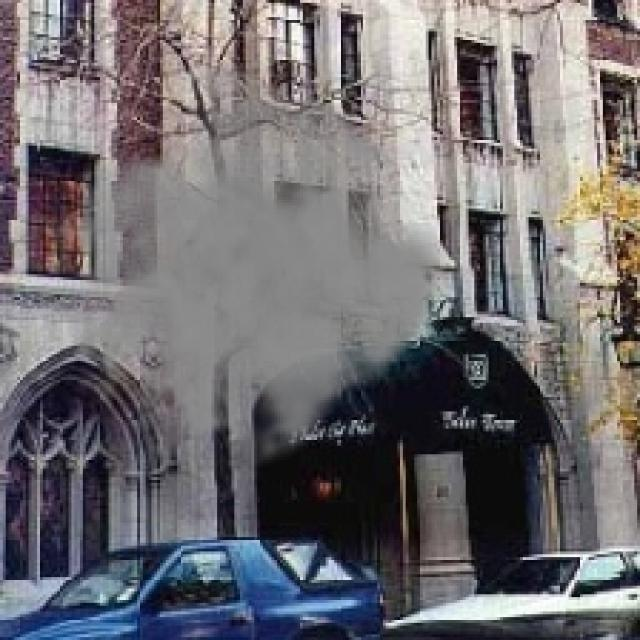smoke: (49, 54, 452, 480)
